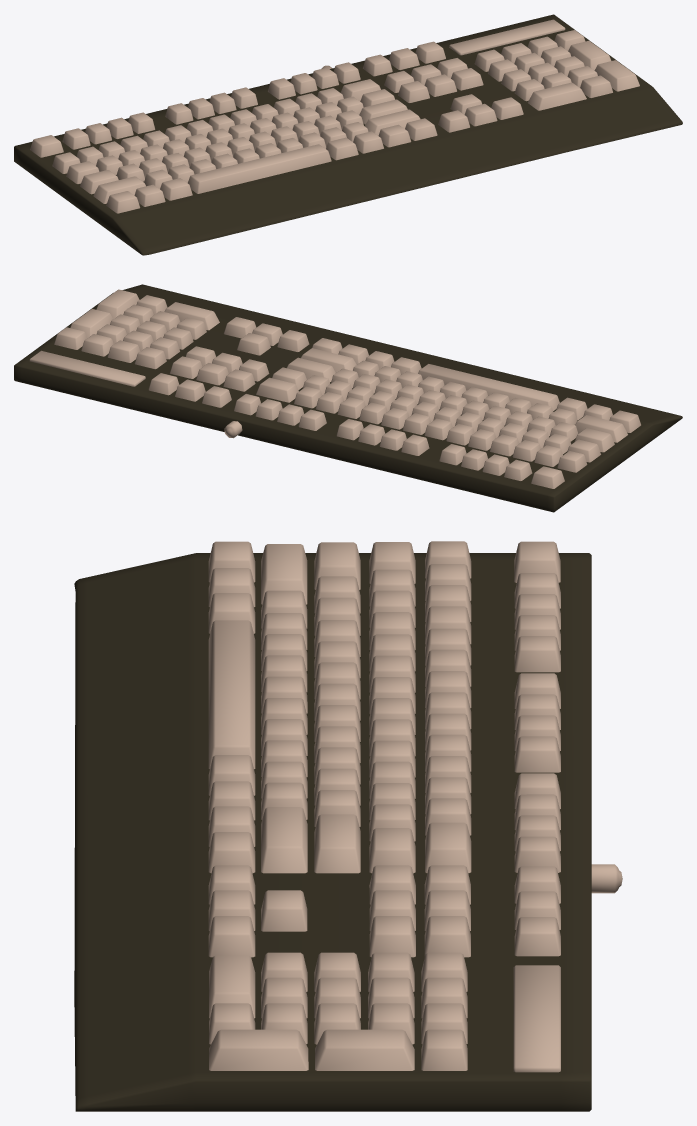
Rendered from Keyboard.fbx.
3 renders of one model, top to bottom at view 1: azimuth 30°, elevation 25°; view 2: azimuth 150°, elevation 25°; view 3: azimuth 270°, elevation 25°, orthographic. The views are drawn at different scales.
Parts seen in each view (by area): view 1: Keyboard; view 2: Keyboard; view 3: Keyboard.
Boxes of the visible parts, x1,y1,x2,y2 form: Keyboard: [14, 14, 682, 255]; Keyboard: [14, 284, 682, 512]; Keyboard: [74, 541, 622, 1111].
Size of the model in its own units: 44.72 by 2.14 by 19.63.
